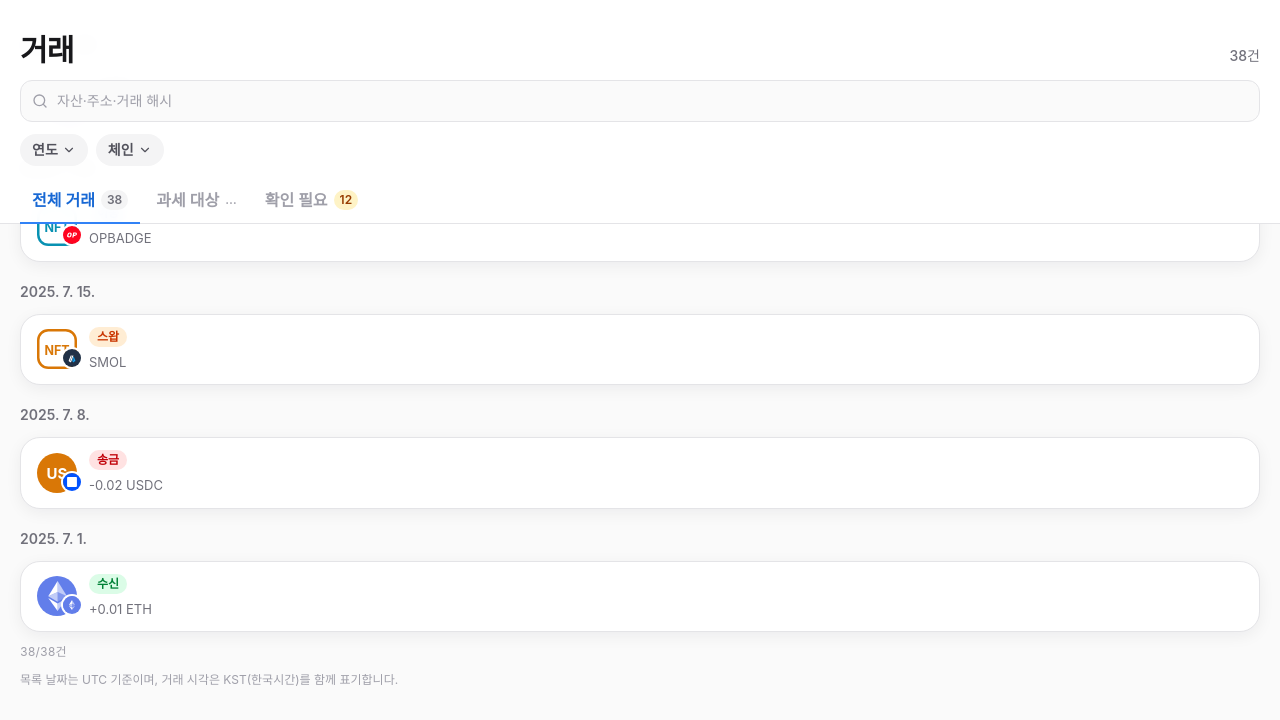
Test: 2차 리뷰 P1 경계 › 판정이 아직 없으면 계산 결과 없음이라 단정하지 않는다
(page scrolled)
Click the button "수신 +0.01 ETH": (57, 596) [20, 560, 1260, 632]
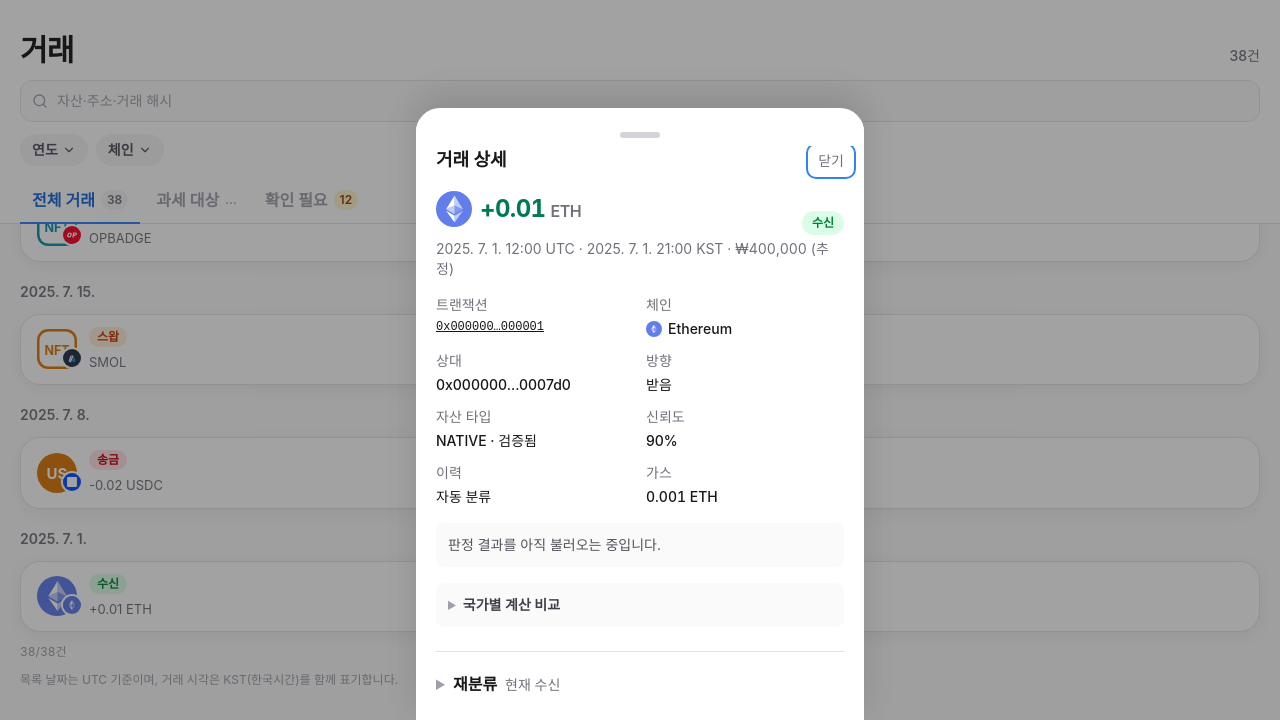
Expected: the heading "거래 상세" is shown, [436, 146, 506, 174]
